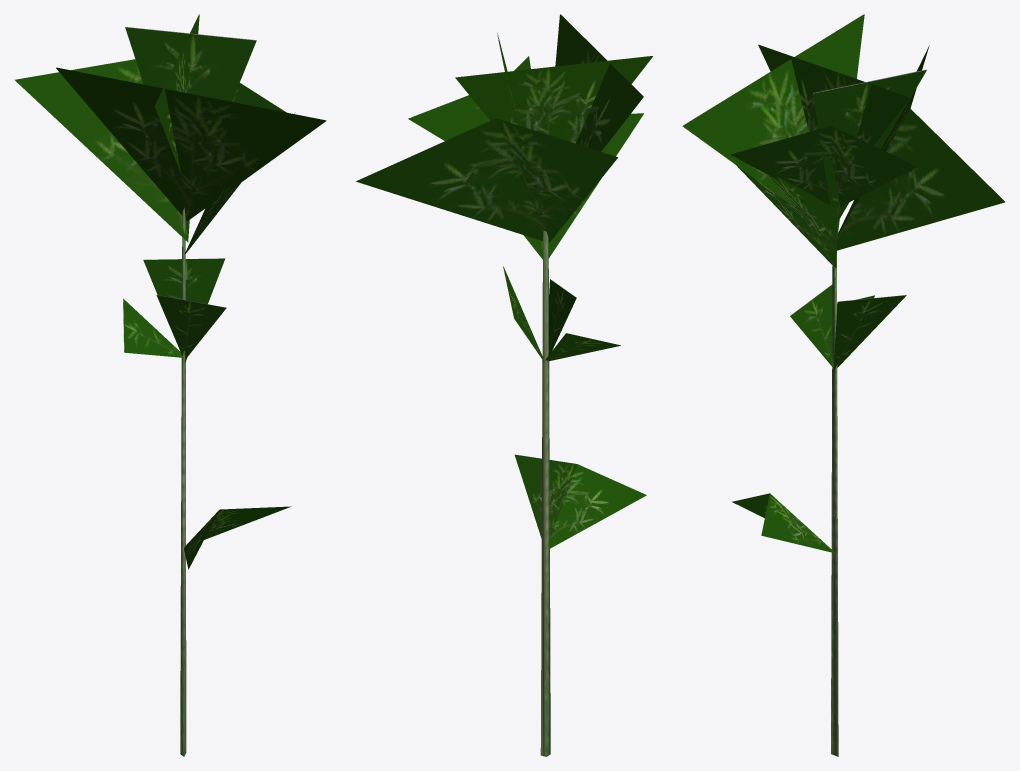
File: leaf_bamboo_med_l1.fbx
3 views of the same model, side by side, from view 1: azimuth 30°, elevation 25°; view 2: azimuth 150°, elevation 25°; view 3: azimuth 270°, elevation 25° (orthographic). The views are drawn at different scales.
Parts seen in each view (by area): view 1: mesh_node; view 2: mesh_node; view 3: mesh_node.
Part boxes in pixels (x1,y1,x2,y2): mesh_node: (14,14,326,756); mesh_node: (355,14,653,756); mesh_node: (682,14,1005,756).
Bounding box in the file's own units: 4.58 × 13.23 × 5.62.
2 materials, 2 textured.
